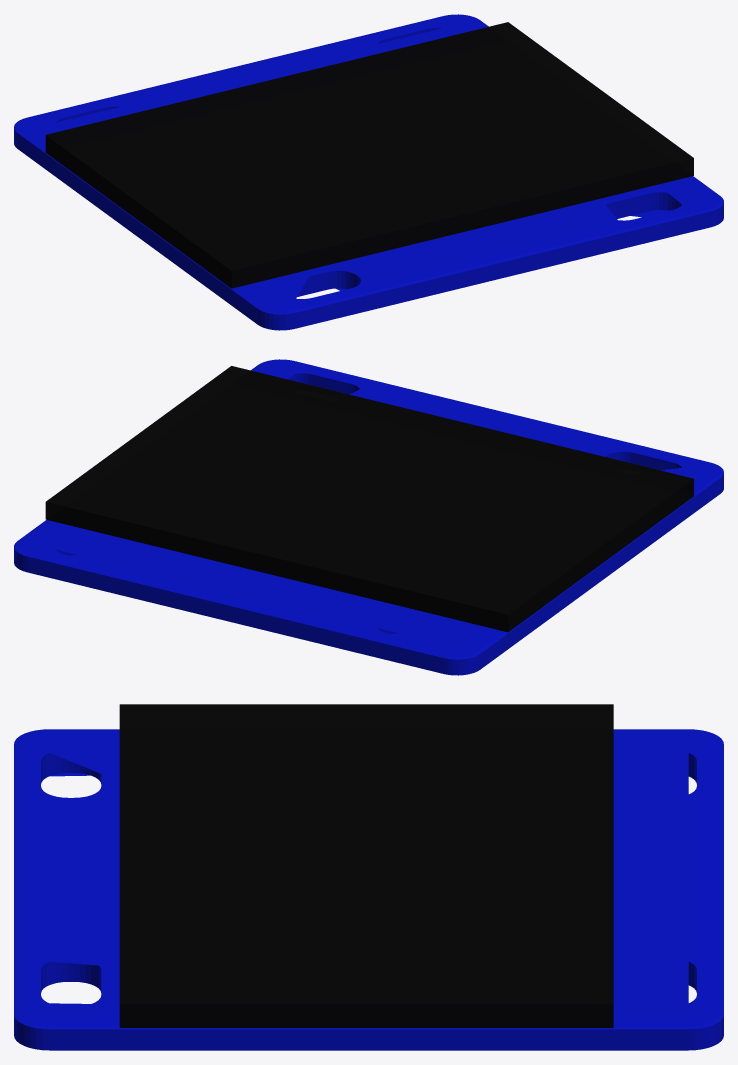
Rendered from LCD_Display_128x64_OLED_Ebay.obj.
3 renders of one model, top to bottom at view 1: azimuth 30°, elevation 25°; view 2: azimuth 150°, elevation 25°; view 3: azimuth 270°, elevation 25°, orthographic. The views are drawn at different scales.
Parts seen in each view (by area): view 1: lcd_Cube.002, pcb_Cube.001; view 2: lcd_Cube.002, pcb_Cube.001; view 3: lcd_Cube.002, pcb_Cube.001.
Boxes of the visible parts, x1,y1,x2,y2 form: lcd_Cube.002: (45,22,693,288); pcb_Cube.001: (14,14,723,330); lcd_Cube.002: (45,366,693,632); pcb_Cube.001: (14,359,723,675); lcd_Cube.002: (119,704,613,1027); pcb_Cube.001: (14,729,723,1050).
Size of the model in its own units: 5.46 by 0.4001 by 5.46.
